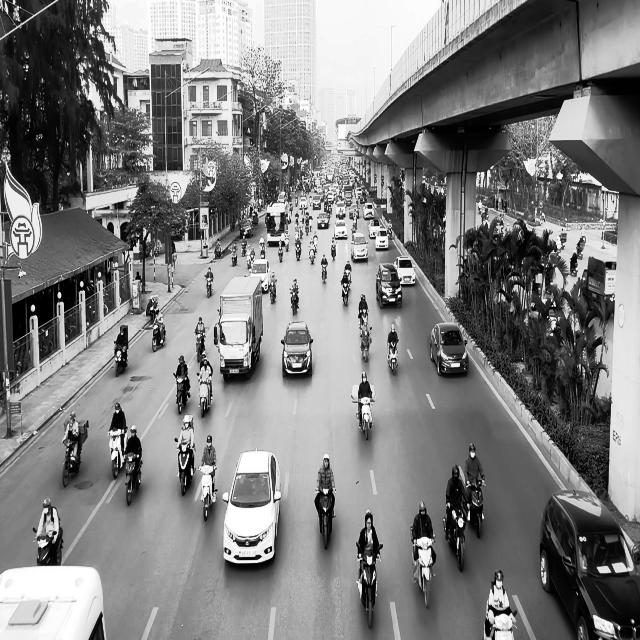car: (539, 488, 640, 640), (0, 564, 106, 639), (222, 448, 281, 566), (429, 322, 469, 376), (280, 320, 313, 377), (376, 262, 402, 308), (250, 258, 271, 294), (393, 256, 416, 286), (350, 232, 369, 261)
motorbike: (356, 542, 382, 628), (410, 527, 436, 608), (443, 501, 468, 572), (316, 486, 336, 550), (174, 437, 196, 495), (32, 525, 63, 565), (465, 479, 485, 538), (198, 464, 217, 522), (108, 426, 128, 479), (123, 451, 142, 505), (62, 436, 82, 487), (196, 372, 212, 418), (173, 372, 190, 414), (113, 341, 128, 376), (359, 325, 372, 362), (152, 323, 166, 351), (194, 331, 206, 362), (387, 342, 398, 374), (340, 278, 350, 306), (359, 309, 368, 334), (290, 287, 298, 315), (204, 274, 213, 297), (269, 280, 277, 304), (570, 256, 578, 276), (321, 262, 327, 283), (331, 242, 336, 259)
truck: (214, 275, 263, 380)
